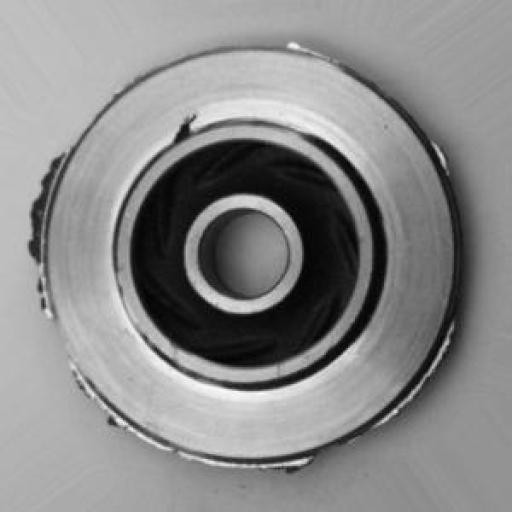defect: (24, 21, 484, 496)
